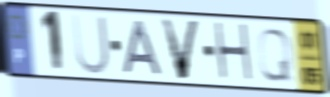1: (38, 9, 66, 77)
A: (121, 18, 166, 78)
H: (211, 19, 256, 86)
Q: (255, 26, 294, 85)
U: (69, 12, 112, 78)
V: (157, 16, 203, 82)
